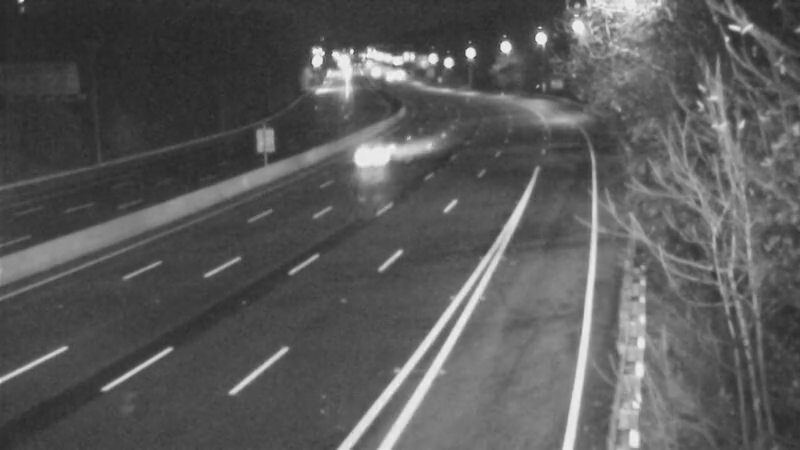vehicle: (339, 114, 419, 194)
